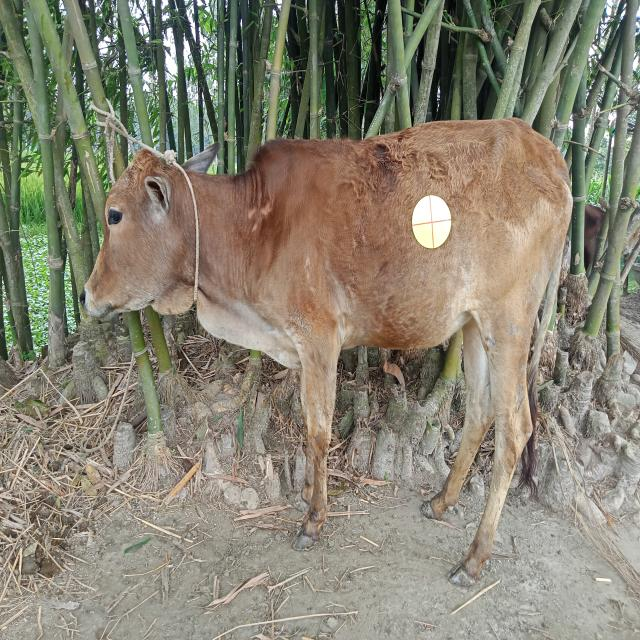badan_sapi: (257, 136, 577, 364)
sapi: (83, 115, 590, 587)
